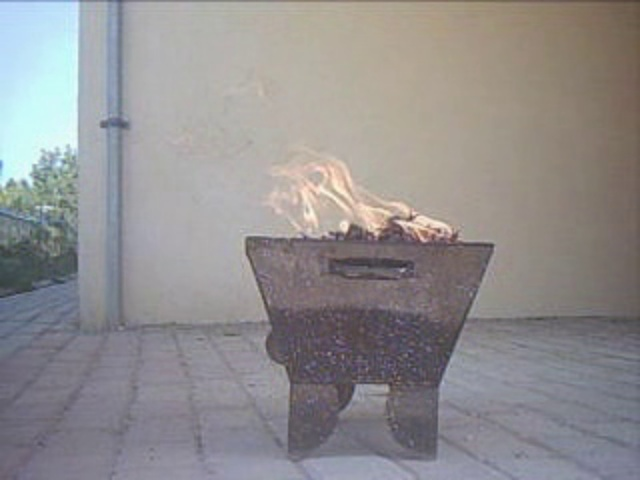fire: (262, 140, 418, 236)
